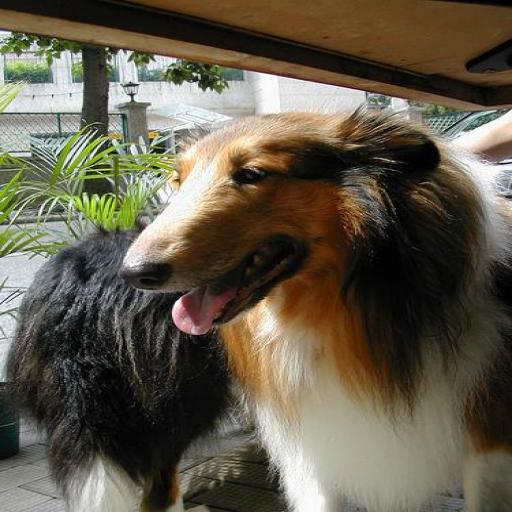dog_face: (122, 111, 434, 336)
